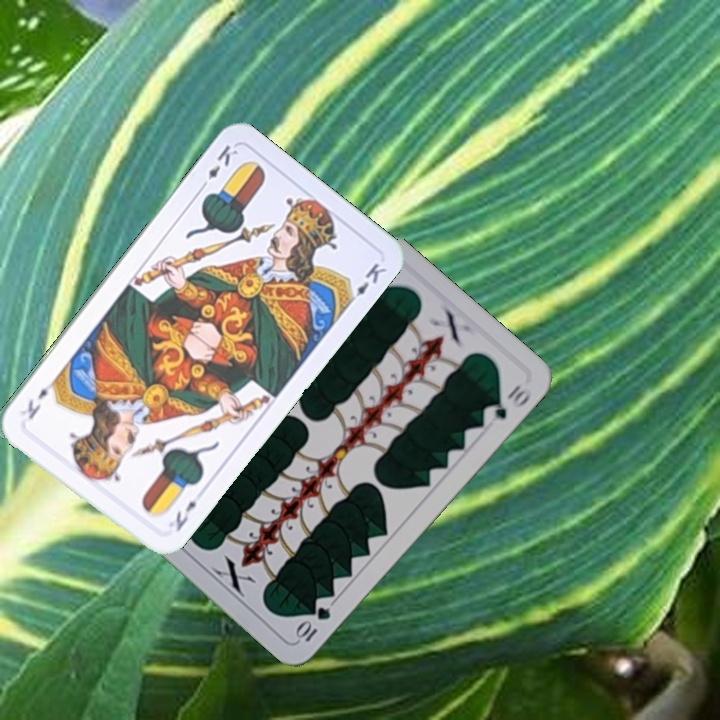EK: (196, 140, 241, 193), (171, 496, 200, 535)
G10: (292, 602, 334, 645)
